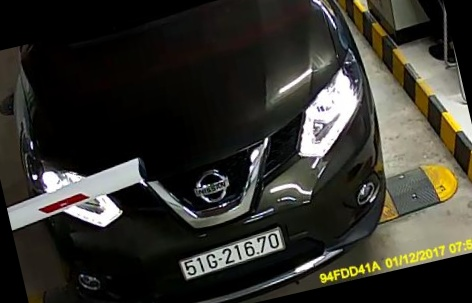plate: (166, 222, 292, 286)
